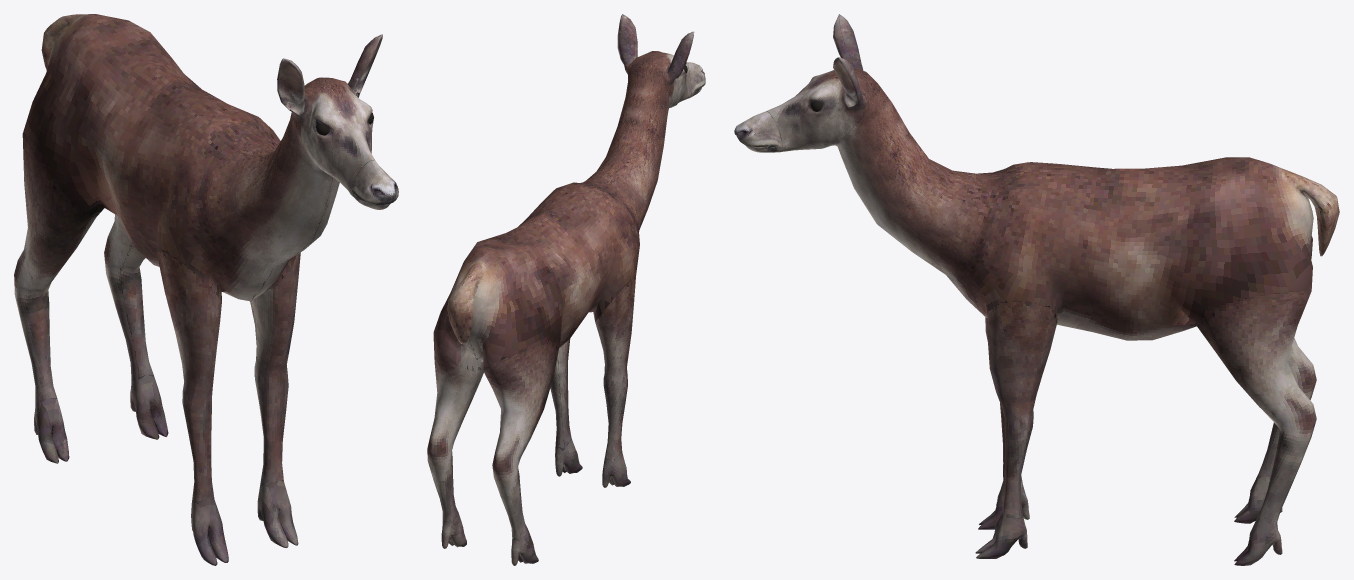
Rendered from natural-deer-weathered.glb.
3 views of the same model, side by side, from view 1: azimuth 30°, elevation 25°; view 2: azimuth 150°, elevation 25°; view 3: azimuth 270°, elevation 25° (orthographic). The views are drawn at different scales.
Parts seen in each view (by area): view 1: natural-deer-weathered runtime mesh; view 2: natural-deer-weathered runtime mesh; view 3: natural-deer-weathered runtime mesh.
Part boxes in pixels (<box>): natural-deer-weathered runtime mesh: <box>14,14,398,565</box>; natural-deer-weathered runtime mesh: <box>427,14,705,565</box>; natural-deer-weathered runtime mesh: <box>734,14,1339,565</box>.
Bounding box in the file's own units: 0.383 × 1.45 × 1.57.
3 materials, 2 textured.
